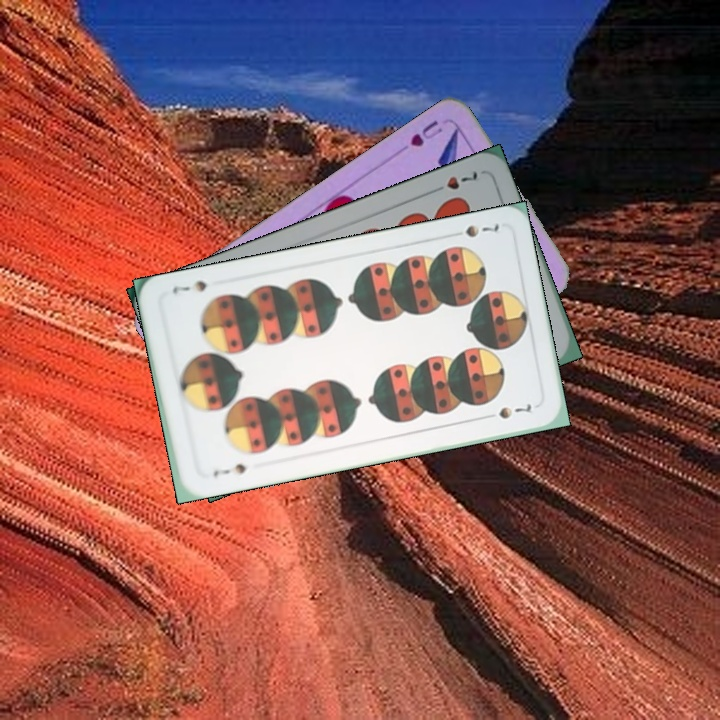H7: (426, 166, 483, 196)
HU: (406, 116, 445, 150)
S7: (209, 459, 249, 481), (461, 219, 502, 240)
